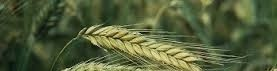Healthy Wheat: (81, 20, 200, 69)
